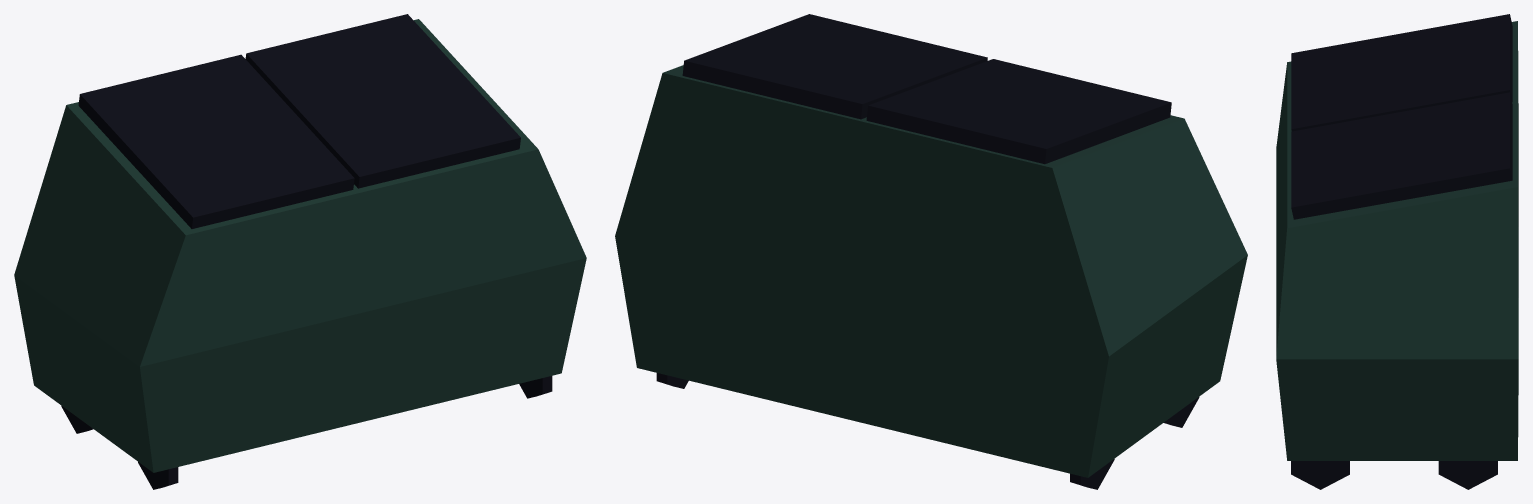
The model's file is SM_Prop_Dumpster.fbx.
The picture shows the model from 3 angles, left to right: view 1: azimuth 30°, elevation 25°; view 2: azimuth 150°, elevation 25°; view 3: azimuth 270°, elevation 25°; orthographic projection. The views are drawn at different scales.
Visible parts, largest first — view 1: Cube.007; view 2: Cube.007; view 3: Cube.007.
Boxes of the visible parts, x1,y1,x2,y2 form: Cube.007: (14, 14, 586, 489); Cube.007: (615, 14, 1247, 489); Cube.007: (1276, 14, 1518, 489).
Bounding box in the file's own units: 157 × 322 × 219.
